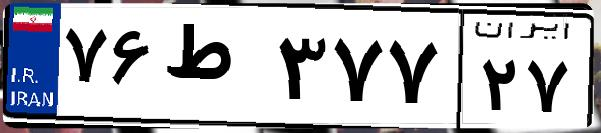2: (475, 38, 525, 113)
3: (270, 28, 330, 110)
6: (110, 28, 158, 98)
7: (385, 28, 445, 110), (330, 28, 385, 110), (57, 26, 110, 100), (525, 38, 570, 115)
ط: (158, 20, 270, 120)
